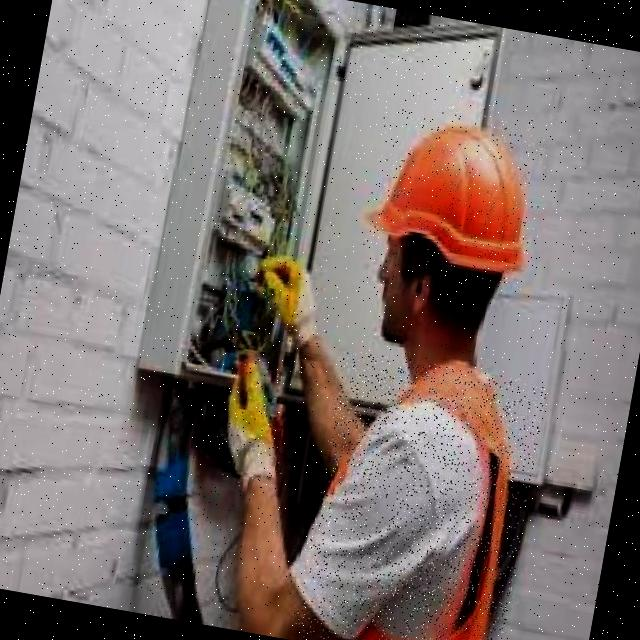vest: (292, 347, 547, 640)
